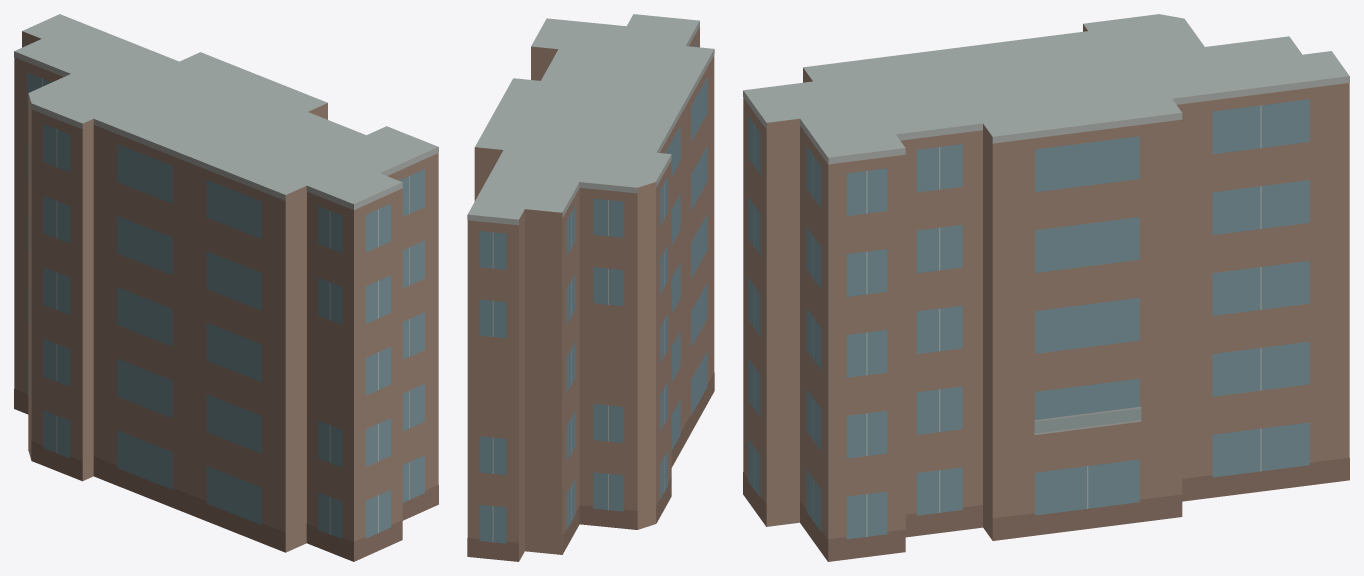
Rendered from survey-upis-32622687.glb.
The picture shows the model from 3 angles, left to right: view 1: azimuth 30°, elevation 25°; view 2: azimuth 150°, elevation 25°; view 3: azimuth 270°, elevation 25°; orthographic projection. The views are drawn at different scales.
Parts seen in each view (by area): view 1: survey-upis-32622687.tmp; view 2: survey-upis-32622687.tmp; view 3: survey-upis-32622687.tmp.
Part boxes in pixels (x1,y1,x2,y2): survey-upis-32622687.tmp: [14, 14, 438, 561]; survey-upis-32622687.tmp: [467, 14, 714, 561]; survey-upis-32622687.tmp: [743, 14, 1349, 561].
Size of the model in its own units: 11.23 by 14.7 by 20.01.
